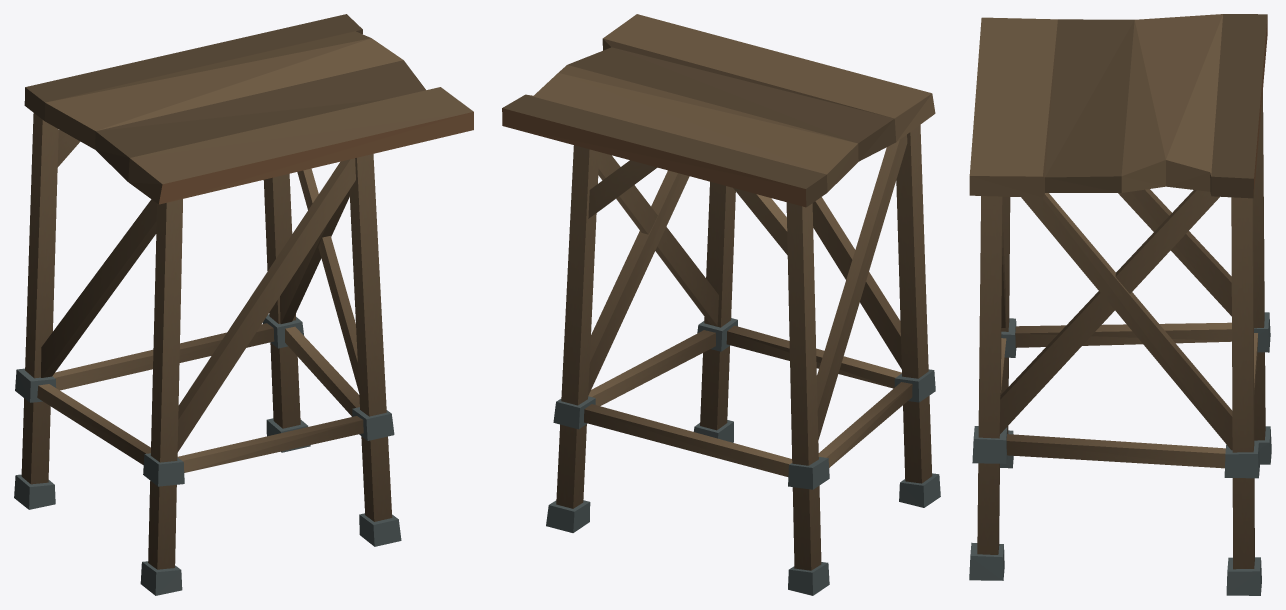
The model's file is ZLP_Build_F_26.FBX.
3 renders of one model, left to right at view 1: azimuth 30°, elevation 25°; view 2: azimuth 150°, elevation 25°; view 3: azimuth 270°, elevation 25°, orthographic. The views are drawn at different scales.
Parts seen in each view (by area): view 1: ZLP_Build_F_26; view 2: ZLP_Build_F_26; view 3: ZLP_Build_F_26.
Boxes of the visible parts, x1,y1,x2,y2 form: ZLP_Build_F_26: [14, 14, 473, 595]; ZLP_Build_F_26: [502, 14, 940, 595]; ZLP_Build_F_26: [969, 14, 1271, 595].
Size of the model in its own units: 161 by 199 by 121.
